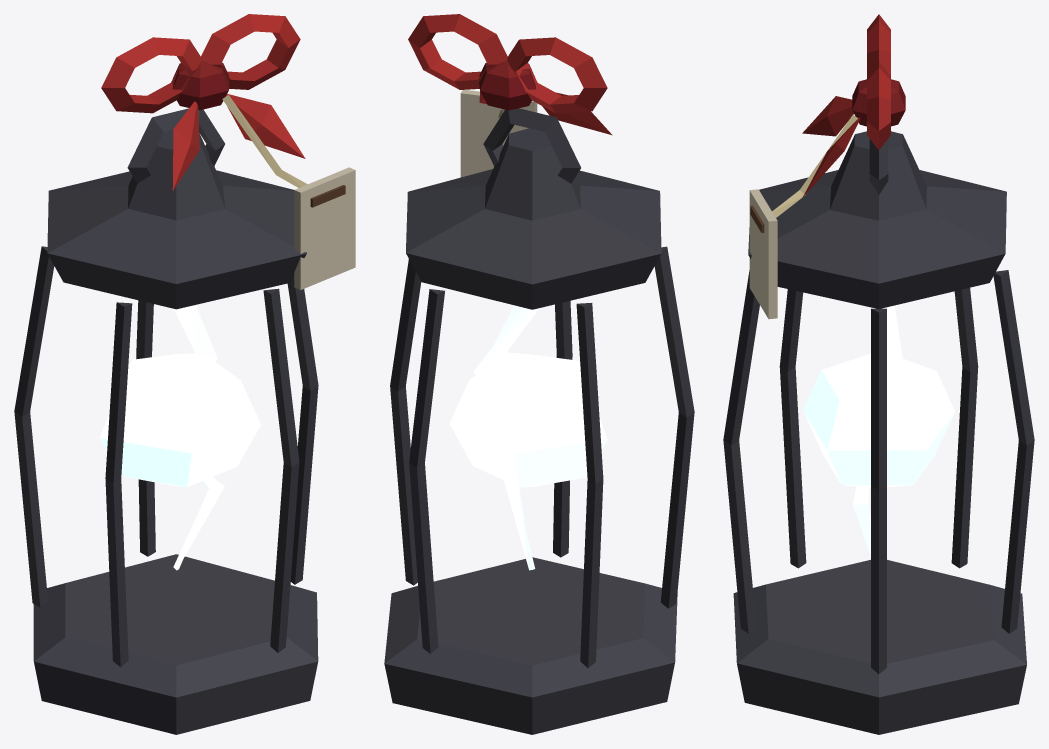
Rendered from quest_thunder_jar.glb.
The picture shows the model from 3 angles, left to right: view 1: azimuth 30°, elevation 25°; view 2: azimuth 150°, elevation 25°; view 3: azimuth 270°, elevation 25°; orthographic projection.
Parts seen in each view (by area): view 1: quest_thunder_jar; view 2: quest_thunder_jar; view 3: quest_thunder_jar.
Part boxes in pixels (x1=…): quest_thunder_jar: x1=14, y1=14, x2=355, y2=734; quest_thunder_jar: x1=384, y1=14, x2=694, y2=734; quest_thunder_jar: x1=723, y1=14, x2=1034, y2=734.
Size of the model in its own units: 0.2141 by 0.4573 by 0.2023.
